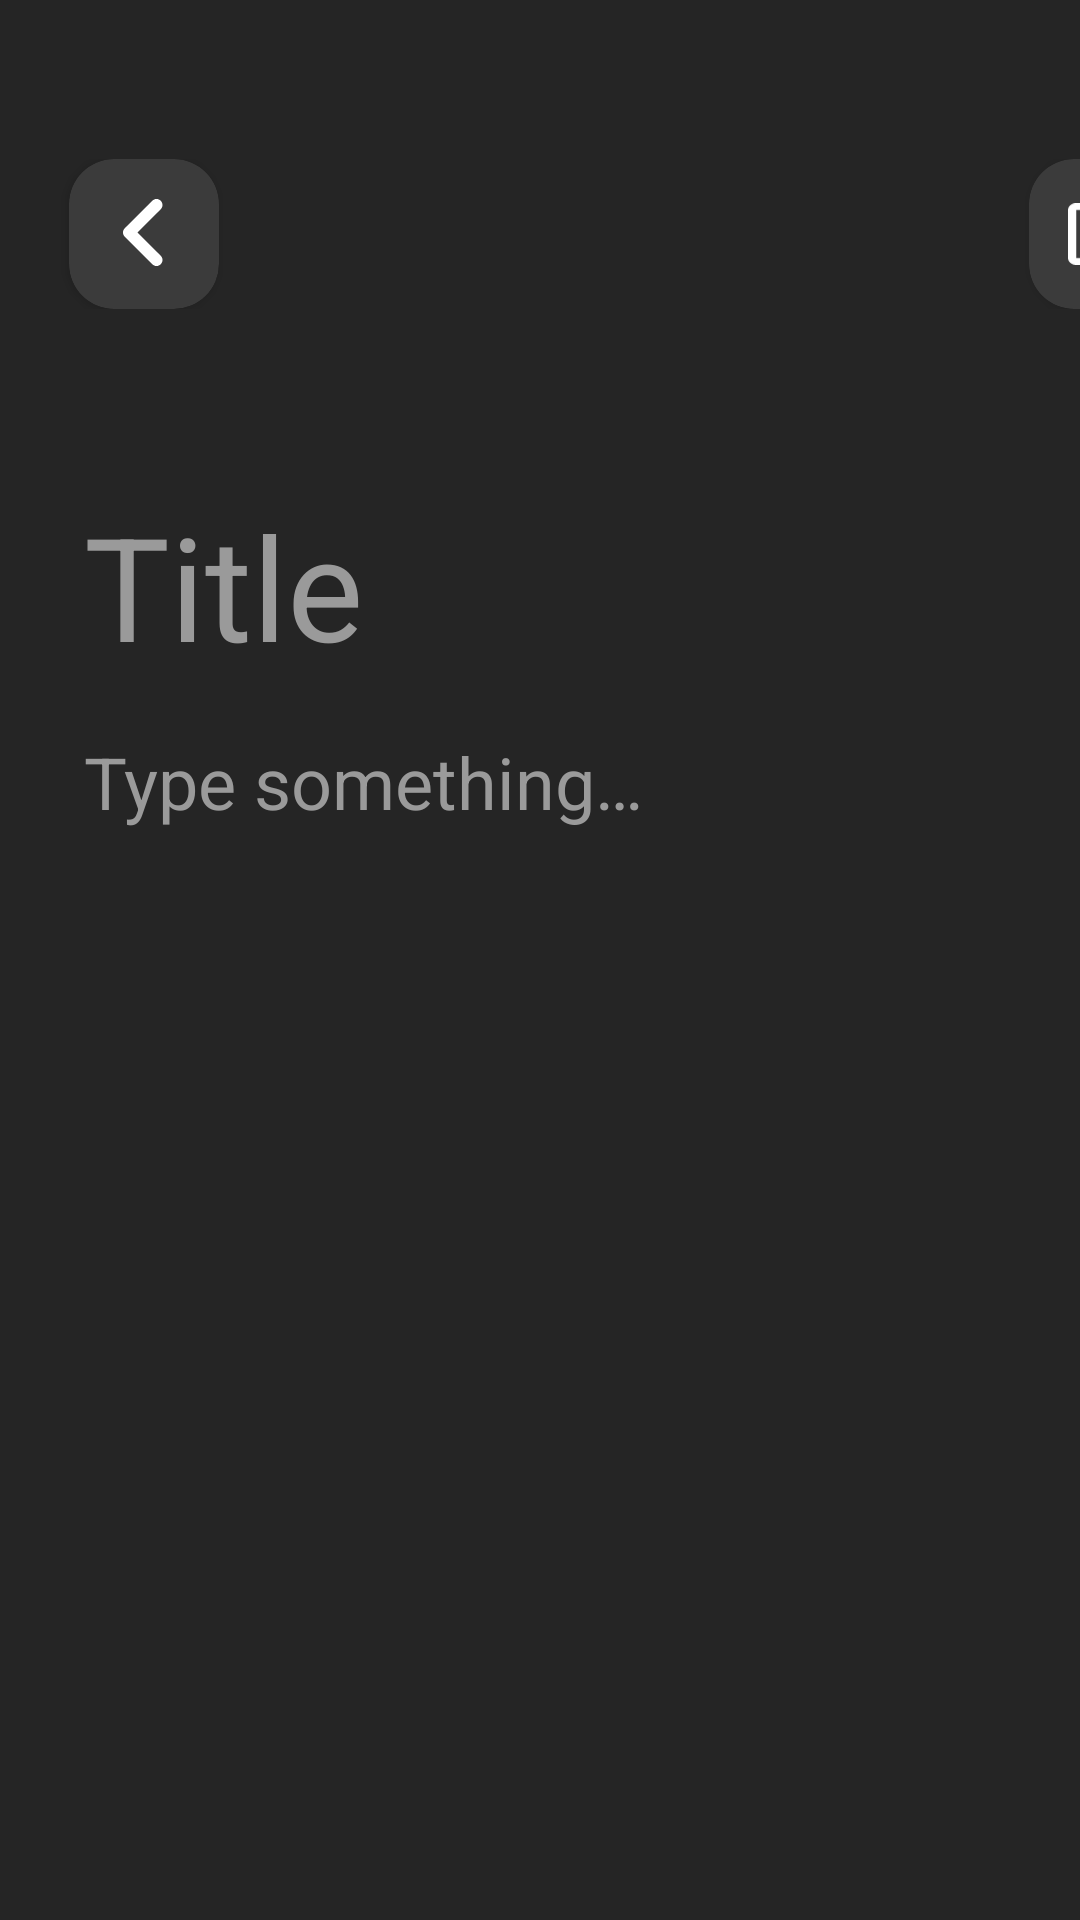

Icon click points for this 1080 x 1920 phone screenshot, format (x=x, y=y):
arrow left: (x=143, y=232)
